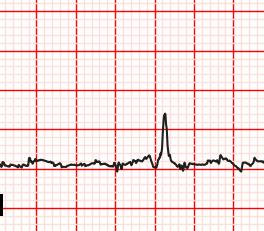Pathological Q Wave: (140, 150, 168, 173)
